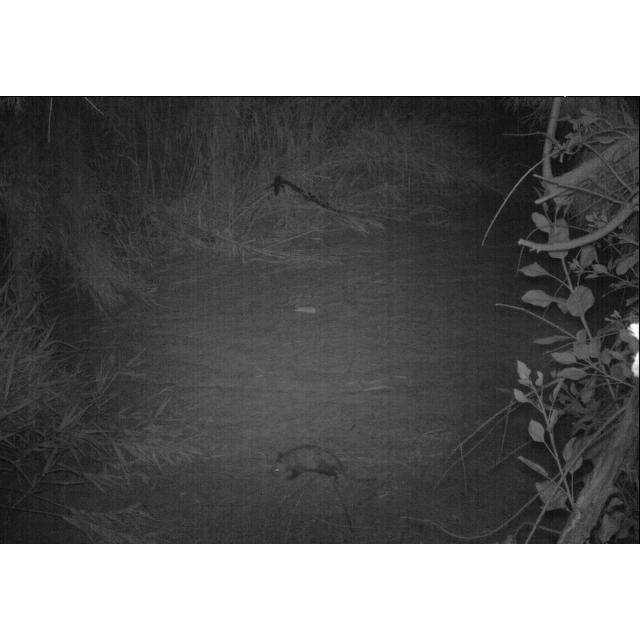animals: (269, 443, 381, 489)
